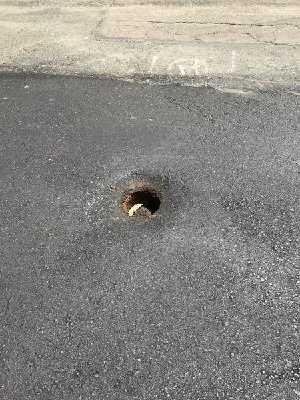pothole: (118, 184, 166, 220)
